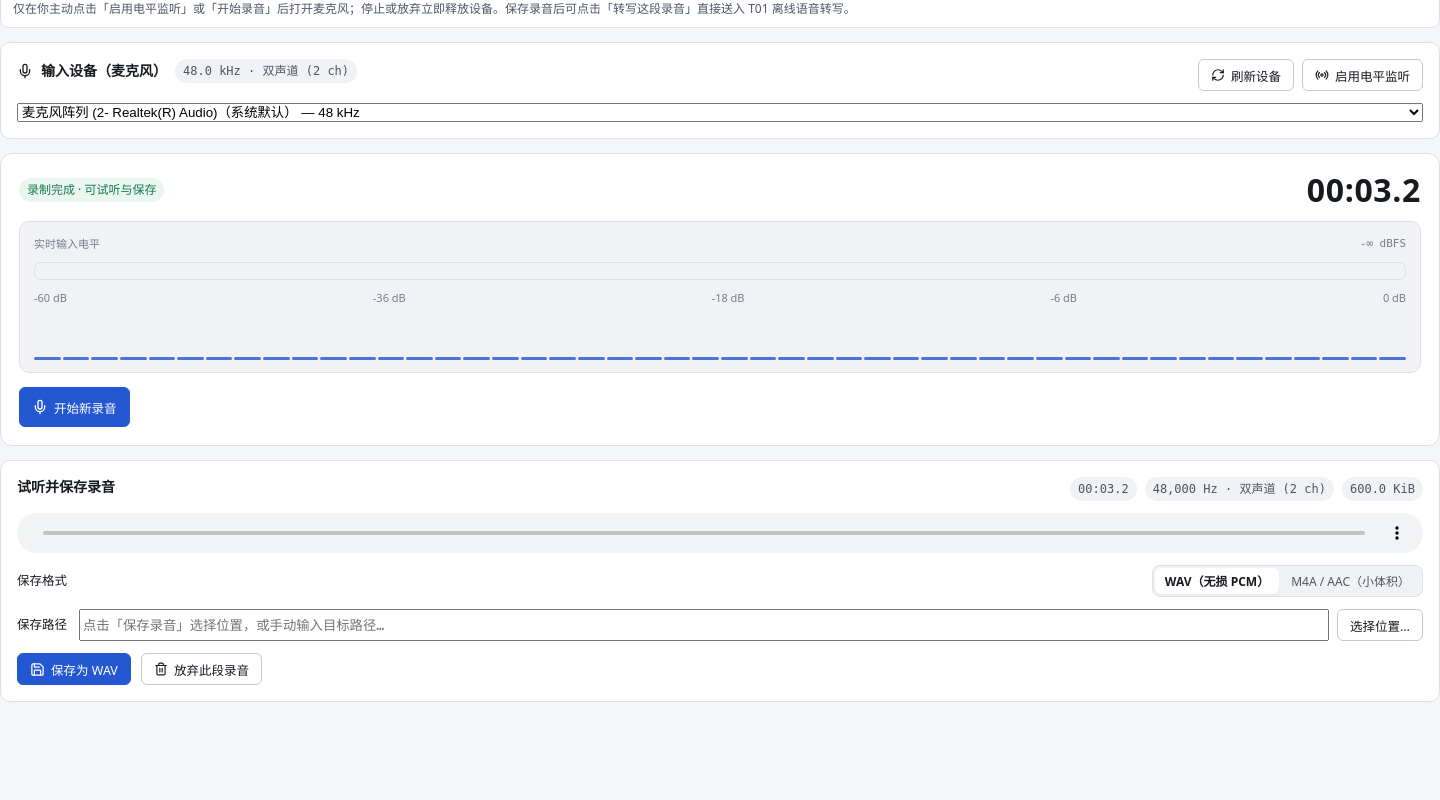
Scenario: A02 AudioRecorderWorkspace › loads handed-off recording into T01 and shows existing model setup panel without auto-downloading when model is absent
Click the button with test id "a02-save-btn": (74, 669) [17, 653, 131, 685]
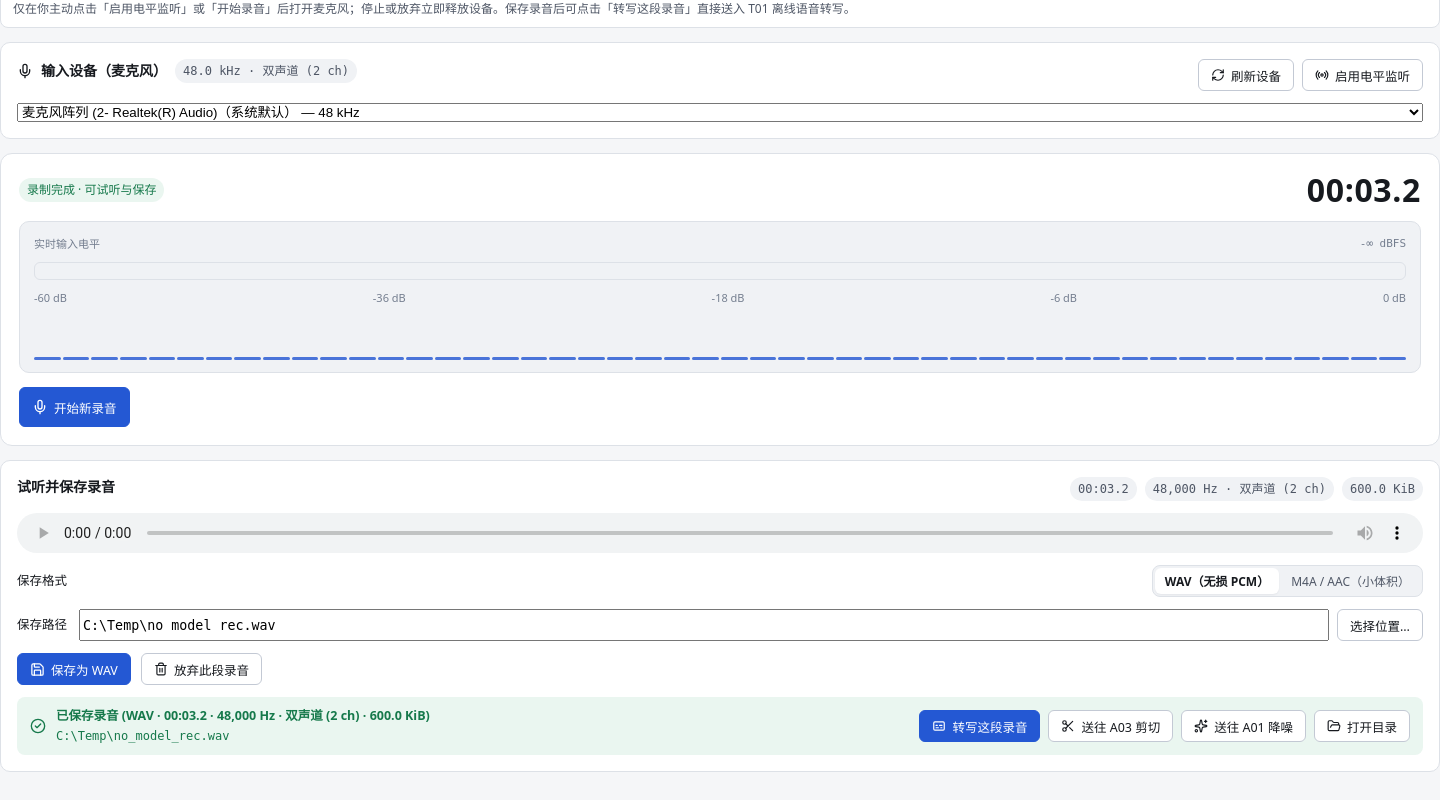
Expected: the button with test id "a02-handoff-t01" is shown
Click the button with test id "a02-handoff-t01": (980, 726) [919, 710, 1040, 742]
(page scrolled)
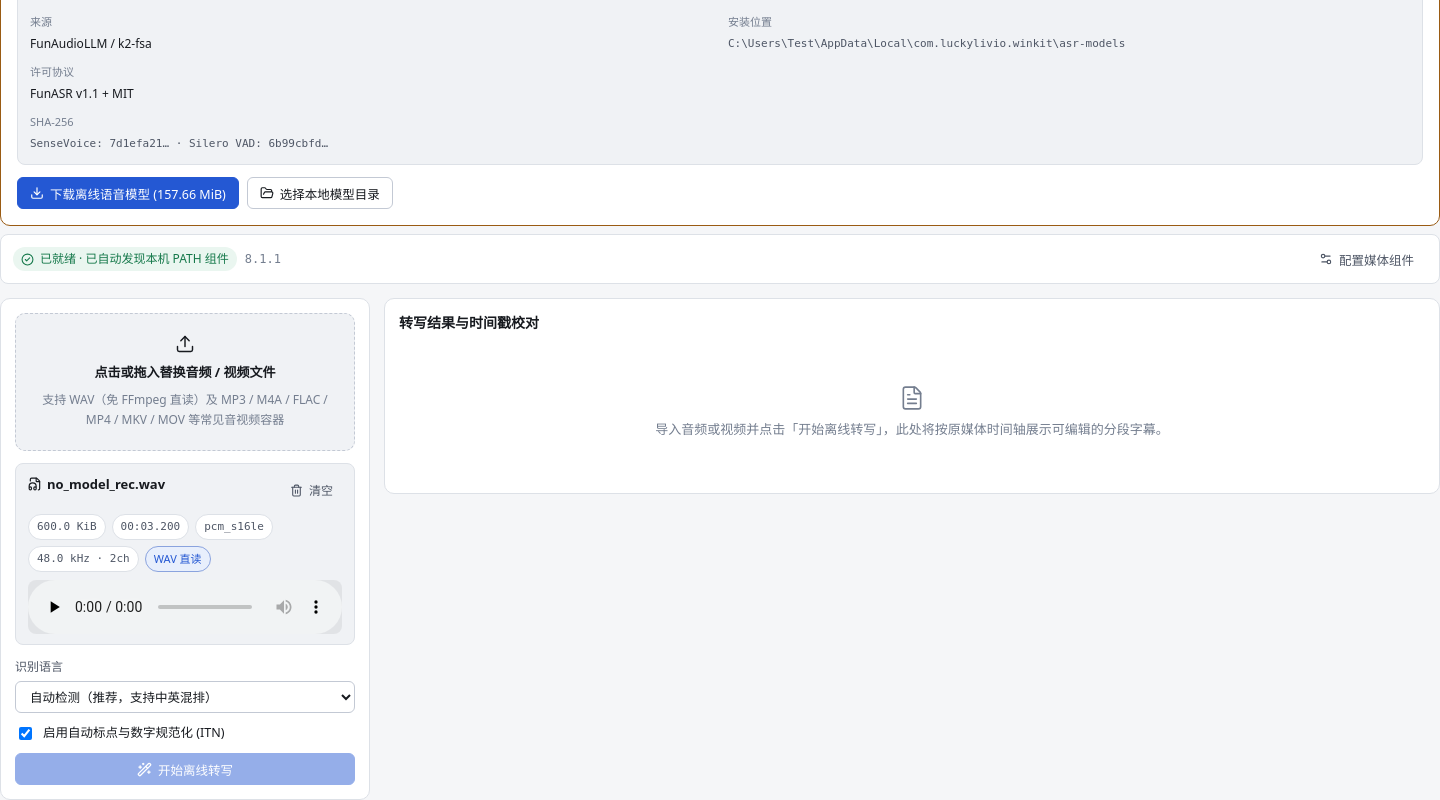
Expected: the element with test id "t01-source-meta" shows "no_model_rec.wav", [47, 475, 165, 493]
Expected: the button with test id "t01-start-btn" is disabled, [15, 753, 355, 785]
